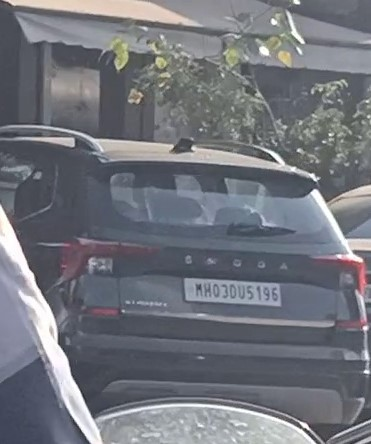MH03DU5196: (184, 278, 281, 307)
